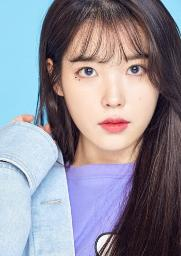face: (64, 21, 154, 153)
